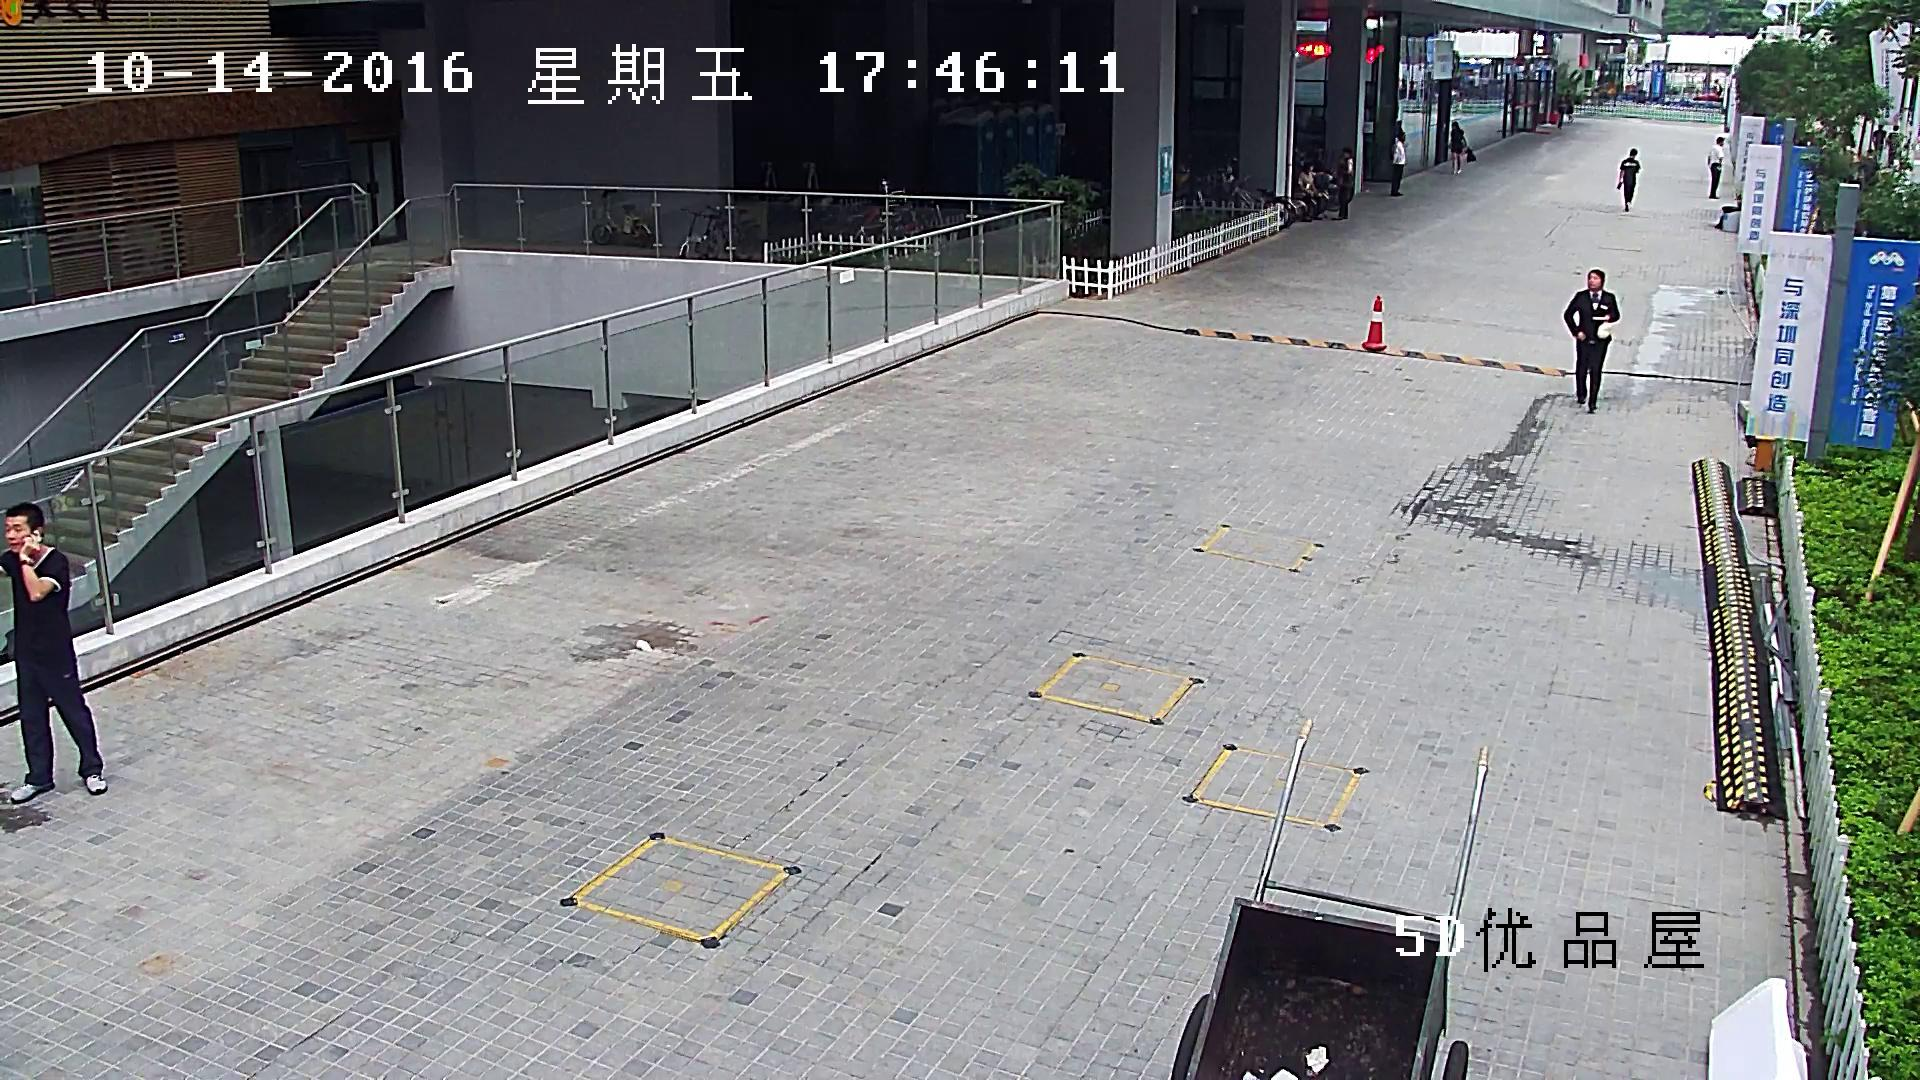person: (0, 501, 109, 805), (1563, 268, 1620, 414), (1296, 158, 1329, 222), (1616, 147, 1642, 212), (1332, 147, 1354, 221), (1448, 121, 1477, 176), (1390, 131, 1406, 196), (1708, 136, 1724, 199), (1449, 121, 1468, 176), (1886, 125, 1899, 165), (1871, 124, 1886, 158), (1557, 95, 1567, 128), (1567, 94, 1573, 126)
